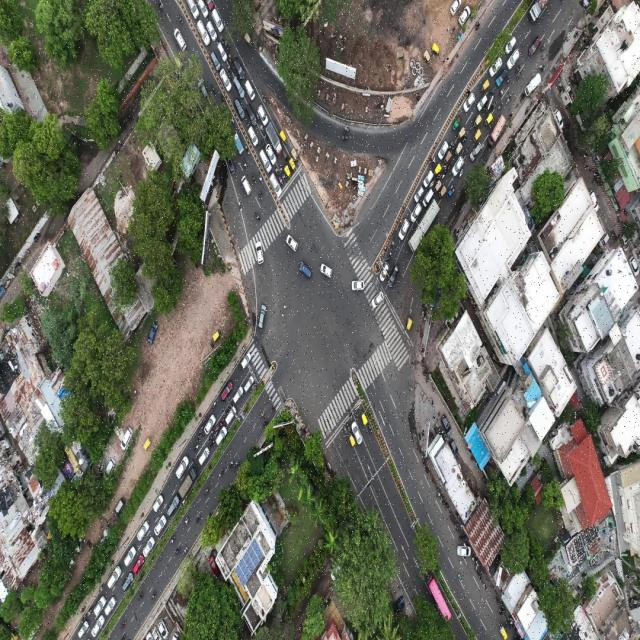3W: (499, 623, 508, 640), (244, 32, 253, 48), (212, 330, 222, 344), (472, 129, 482, 143), (143, 436, 152, 451), (473, 115, 482, 130), (480, 79, 490, 92), (453, 143, 463, 156), (484, 113, 493, 127), (433, 163, 442, 177), (438, 186, 447, 200), (291, 148, 299, 163), (423, 49, 431, 64), (431, 42, 440, 55), (406, 316, 413, 332), (457, 127, 465, 140), (284, 165, 291, 179), (361, 412, 368, 426), (349, 433, 356, 446)
Bus: (408, 199, 440, 252), (426, 574, 452, 622)
Cars: (211, 8, 225, 33), (197, 20, 210, 46), (107, 565, 121, 589), (92, 614, 105, 638), (528, 36, 542, 58), (390, 595, 406, 614), (220, 68, 232, 93), (257, 102, 269, 127), (120, 427, 132, 452), (167, 493, 180, 516), (154, 514, 167, 536), (507, 48, 520, 70), (489, 57, 503, 77), (174, 28, 186, 51), (104, 458, 116, 481), (234, 96, 245, 121), (246, 103, 257, 128), (94, 595, 107, 616), (469, 141, 482, 162), (245, 79, 256, 103), (124, 546, 136, 568), (137, 519, 149, 541), (216, 425, 228, 447), (387, 265, 399, 287), (458, 6, 471, 26), (463, 93, 476, 113), (122, 572, 134, 593), (143, 536, 155, 557), (452, 156, 464, 177), (113, 498, 126, 517), (210, 50, 221, 72), (217, 41, 228, 63), (234, 76, 245, 98), (147, 321, 158, 343), (287, 233, 299, 253), (299, 260, 311, 280), (204, 414, 216, 434), (221, 381, 233, 401), (320, 260, 332, 279), (199, 446, 211, 465), (505, 35, 517, 54), (258, 302, 266, 330), (449, 0, 462, 17), (248, 127, 259, 147), (198, 78, 208, 100), (225, 405, 236, 425), (554, 108, 564, 130), (399, 218, 409, 240), (476, 94, 488, 112), (422, 170, 434, 188), (457, 544, 472, 558), (255, 241, 264, 264), (78, 621, 89, 639), (243, 375, 254, 393), (240, 352, 251, 370), (438, 141, 449, 159), (153, 495, 164, 512), (372, 292, 384, 307), (234, 386, 244, 404), (414, 185, 424, 202), (352, 279, 365, 292), (228, 155, 235, 174)
LCV: (185, 0, 199, 20), (234, 132, 244, 154), (241, 175, 251, 196), (452, 115, 462, 131), (447, 183, 455, 199)
M2W: (490, 100, 498, 110), (255, 211, 261, 223), (203, 486, 209, 498), (474, 21, 481, 31), (344, 124, 351, 133), (506, 75, 513, 84), (220, 94, 226, 104), (195, 513, 201, 523), (245, 144, 250, 155), (138, 591, 143, 602), (88, 606, 93, 617), (278, 176, 284, 185), (158, 1, 164, 10), (270, 404, 276, 413), (211, 401, 217, 410), (207, 434, 213, 443), (174, 546, 180, 555), (182, 546, 188, 555), (498, 89, 504, 98), (274, 167, 279, 177), (258, 173, 263, 183), (238, 201, 243, 211), (211, 84, 216, 94), (197, 433, 202, 443), (184, 516, 189, 526), (151, 592, 156, 602), (483, 583, 488, 593), (354, 408, 359, 418), (368, 424, 373, 434), (498, 100, 503, 110), (539, 65, 546, 72), (99, 584, 105, 592), (390, 239, 396, 247), (251, 174, 256, 183), (178, 15, 183, 24), (199, 424, 204, 433), (194, 443, 199, 452), (192, 454, 197, 463), (218, 468, 223, 477), (170, 535, 175, 544), (458, 574, 463, 583), (448, 141, 453, 150), (516, 71, 521, 80), (506, 94, 511, 103), (285, 154, 289, 165), (342, 134, 348, 141), (263, 419, 269, 426), (234, 460, 240, 467), (490, 88, 496, 95), (243, 158, 247, 168), (228, 52, 232, 62), (229, 460, 233, 470), (120, 621, 124, 631), (387, 252, 392, 260), (442, 171, 447, 179), (259, 192, 263, 201), (344, 425, 348, 434), (349, 410, 353, 419), (459, 169, 463, 178), (442, 164, 448, 170), (451, 26, 455, 35), (464, 148, 469, 155), (438, 492, 441, 502), (260, 411, 264, 418), (220, 419, 224, 426), (448, 161, 452, 168), (280, 164, 283, 173), (393, 231, 397, 237), (268, 397, 271, 404)
MAV: (528, 0, 550, 23)
Truck: (266, 122, 284, 158), (179, 465, 198, 497), (487, 114, 506, 146), (525, 73, 541, 97)
